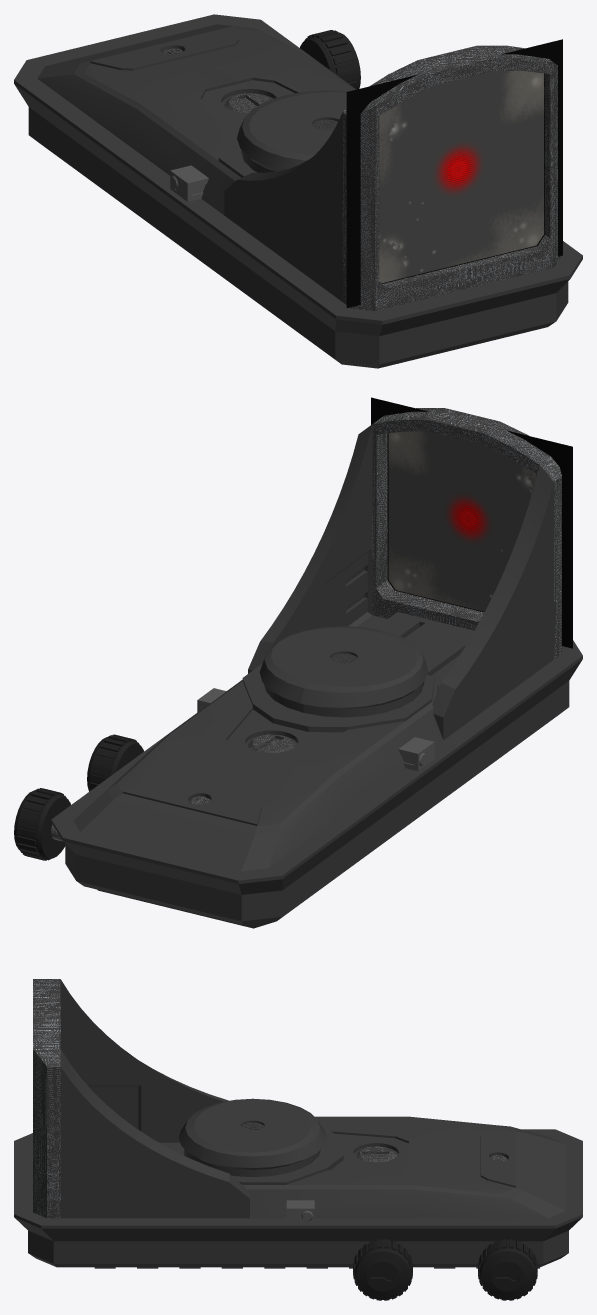
File: Red Dot Sight.fbx
The picture shows the model from 3 angles, top to bottom: view 1: azimuth 30°, elevation 25°; view 2: azimuth 150°, elevation 25°; view 3: azimuth 270°, elevation 25°; orthographic projection. The views are drawn at different scales.
Parts seen in each view (by area): view 1: Group_11_1, Group1, Group_11_2, Group5, Group4, Group7, Group10, Group3; view 2: Group_11_1, Group_11_2, Group1, Group5, Group8, Group7, Group4, Group10, Group9, Group3; view 3: Group_11_2, Group8, Group_11_1, Group5, Group7, Group10, Group9, Group6, Group4.
Boxes of the visible parts, <box> form: Group_11_1: <box>14,37,476,368</box>; Group1: <box>346,39,562,307</box>; Group_11_2: <box>121,14,582,347</box>; Group5: <box>224,113,342,301</box>; Group4: <box>342,53,464,310</box>; Group7: <box>448,45,560,289</box>; Group10: <box>300,30,360,89</box>; Group3: <box>170,165,208,201</box>; Group_11_1: <box>151,626,582,928</box>; Group_11_2: <box>51,612,455,909</box>; Group1: <box>371,397,572,648</box>; Group5: <box>432,465,553,740</box>; Group8: <box>248,424,372,673</box>; Group7: <box>372,408,471,625</box>; Group4: <box>456,415,561,659</box>; Group10: <box>14,788,70,860</box>; Group9: <box>87,734,143,791</box>; Group3: <box>398,737,434,770</box>; Group_11_2: <box>14,1125,582,1268</box>; Group8: <box>60,1049,249,1218</box>; Group_11_1: <box>14,1098,582,1177</box>; Group5: <box>60,979,228,1142</box>; Group7: <box>33,999,60,1218</box>; Group10: <box>478,1239,537,1300</box>; Group9: <box>353,1239,412,1300</box>; Group6: <box>286,1200,314,1223</box>; Group4: <box>33,979,60,998</box>.
Size of the model in its own units: 4.3 by 4.03 by 8.75.
